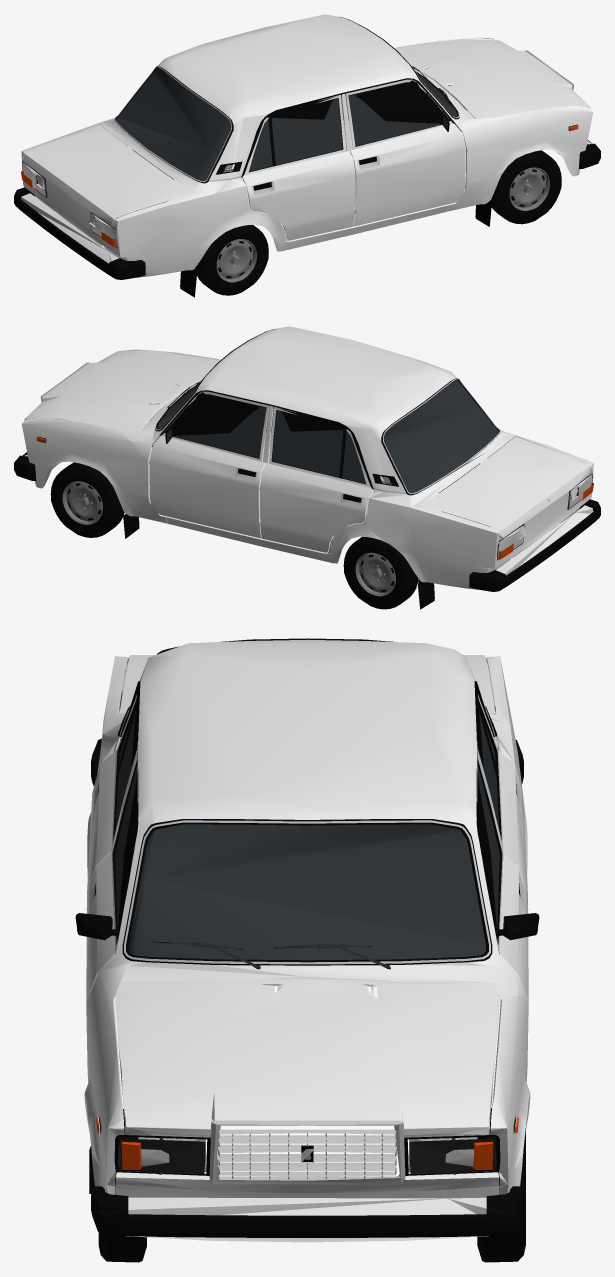
Rendered from vaz2107.obj.
The picture shows the model from 3 angles, top to bottom: view 1: azimuth 30°, elevation 25°; view 2: azimuth 150°, elevation 25°; view 3: azimuth 270°, elevation 25°; orthographic projection. The views are drawn at different scales.
Visible parts, largest first — view 1: vaz2107_07paintPaint, vaz2107_winglassGlass, vaz2107_jigrubber, vaz2107_wheeltire, vaz2107_jigplastic, vaz2107_wheelrim, vaz2107_jigmetallic, vaz2107_jigchrome, vaz2107_hlchrome; view 2: vaz2107_07paintPaint, vaz2107_winglassGlass, vaz2107_jigrubber, vaz2107_wheeltire, vaz2107_jigplastic, vaz2107_wheelrim, vaz2107_jigmetallic, vaz2107_jigchrome, vaz2107_hlchrome; view 3: vaz2107_07paintPaint, vaz2107_winglassGlass, vaz2107_jigplastic, vaz2107_jigchrome, vaz2107_jigrubber, vaz2107_jigmetallic, vaz2107_hlplastic, vaz2107_wheeltire, vaz2107_hlchrome, vaz2107_hlsignalglass.
Part boxes in pixels (bbox=[...]): vaz2107_07paintPaint: bbox=[21, 14, 593, 277]; vaz2107_winglassGlass: bbox=[116, 68, 456, 181]; vaz2107_jigrubber: bbox=[115, 17, 492, 297]; vaz2107_wheeltire: bbox=[116, 85, 561, 295]; vaz2107_jigplastic: bbox=[14, 98, 600, 279]; vaz2107_wheelrim: bbox=[216, 167, 549, 282]; vaz2107_jigmetallic: bbox=[21, 141, 591, 263]; vaz2107_jigchrome: bbox=[65, 50, 574, 195]; vaz2107_hlchrome: bbox=[22, 162, 117, 247]; vaz2107_07paintPaint: bbox=[21, 326, 593, 589]; vaz2107_winglassGlass: bbox=[158, 380, 498, 493]; vaz2107_jigrubber: bbox=[123, 329, 499, 609]; vaz2107_wheeltire: bbox=[50, 403, 489, 609]; vaz2107_jigplastic: bbox=[14, 410, 600, 591]; vaz2107_wheelrim: bbox=[62, 481, 395, 596]; vaz2107_jigmetallic: bbox=[24, 454, 593, 575]; vaz2107_jigchrome: bbox=[40, 362, 549, 507]; vaz2107_hlchrome: bbox=[497, 474, 591, 559]; vaz2107_07paintPaint: bbox=[84, 639, 530, 1242]; vaz2107_winglassGlass: bbox=[115, 712, 499, 960]; vaz2107_jigplastic: bbox=[75, 699, 539, 1237]; vaz2107_jigchrome: bbox=[86, 736, 528, 1184]; vaz2107_jigrubber: bbox=[89, 638, 498, 1193]; vaz2107_jigmetallic: bbox=[128, 1197, 486, 1215]; vaz2107_hlplastic: bbox=[99, 690, 515, 1174]; vaz2107_wheeltire: bbox=[98, 950, 525, 1262]; vaz2107_hlchrome: bbox=[97, 1117, 517, 1172]; vaz2107_hlsignalglass: bbox=[96, 1117, 518, 1169].
Size of the model in its own units: 4.14 by 1.42 by 1.69.
Materials: 16 (16 with a texture image).
